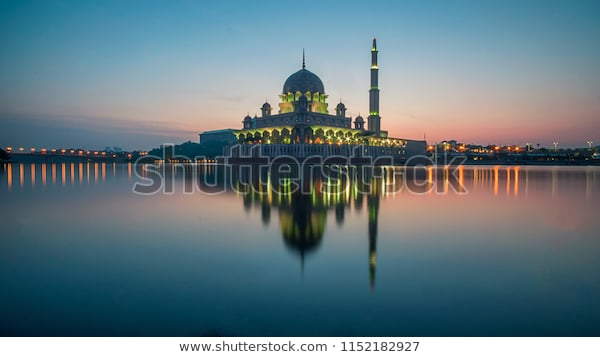Mosque: (235, 37, 415, 166)
